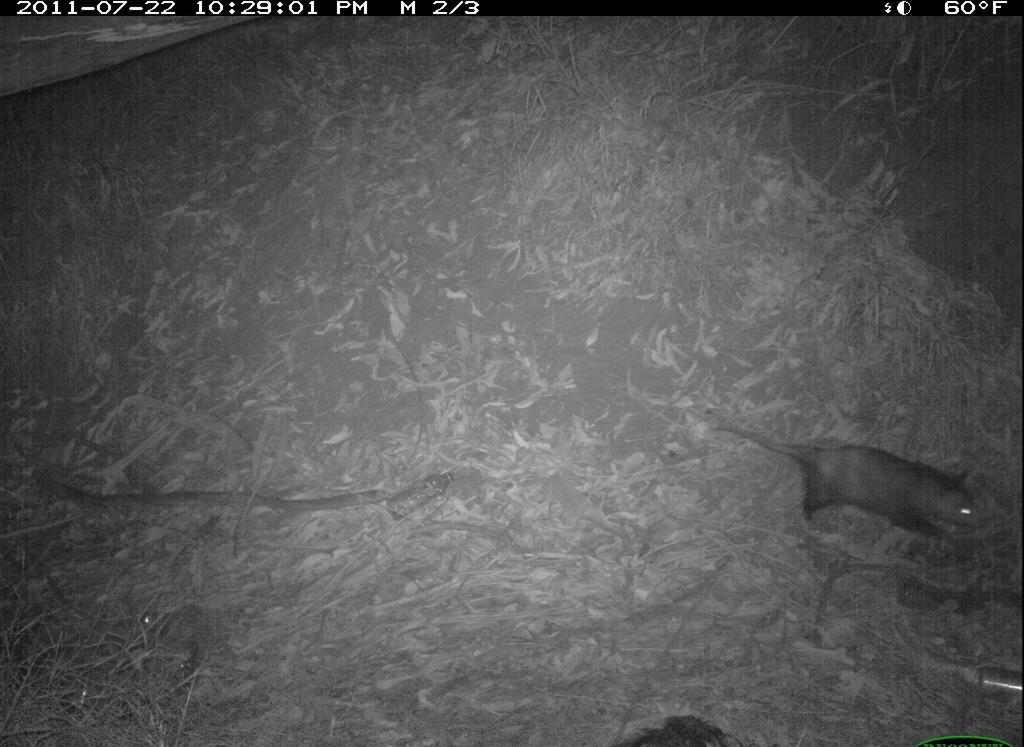opossum: (712, 404, 985, 546)
